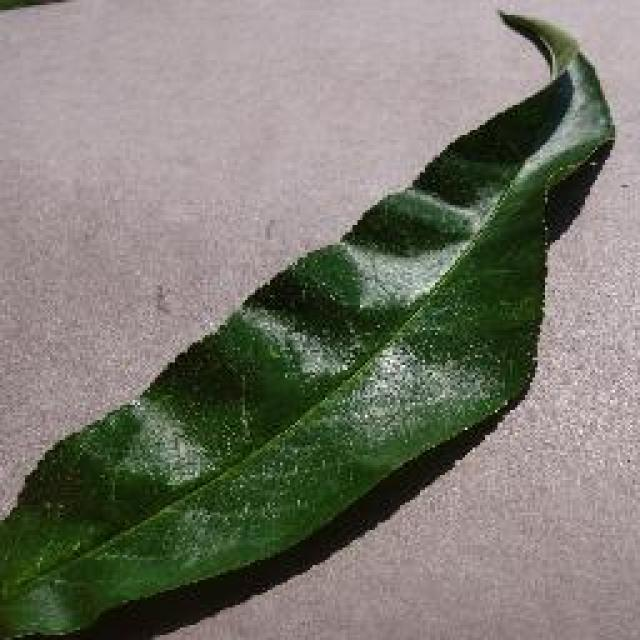Pea_healthy: (65, 120, 573, 560)
